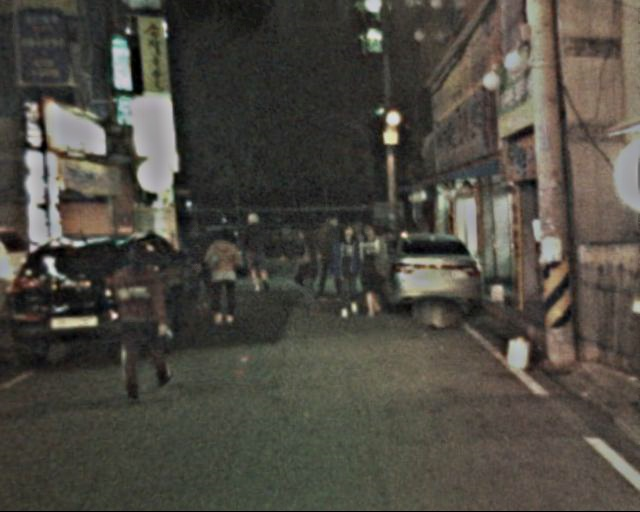person: (107, 243, 169, 394), (202, 229, 245, 325), (350, 225, 389, 311), (328, 229, 366, 315), (180, 222, 216, 306), (313, 215, 349, 295), (237, 213, 274, 290), (288, 228, 322, 308)
